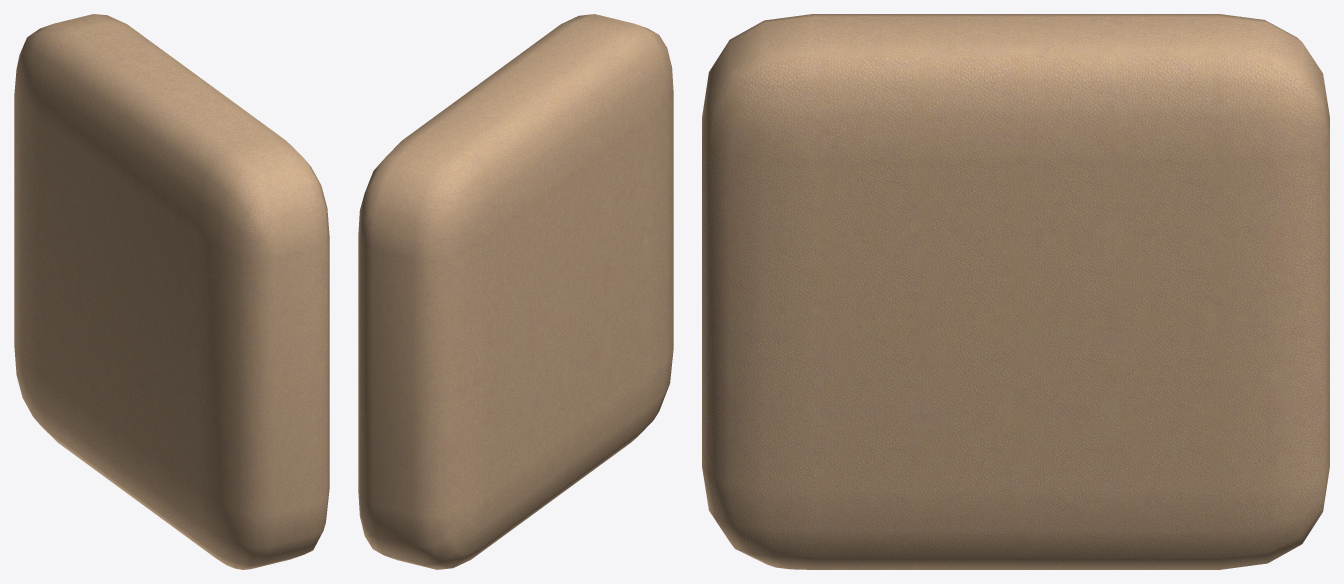
File: SM_咨询室_沙发组件_005.fbx
The picture shows the model from 3 angles, left to right: view 1: azimuth 30°, elevation 25°; view 2: azimuth 150°, elevation 25°; view 3: azimuth 270°, elevation 25°; orthographic projection. The views are drawn at different scales.
Parts seen in each view (by area): view 1: SM_咨询室_沙发组件_005; view 2: SM_咨询室_沙发组件_005; view 3: SM_咨询室_沙发组件_005.
Boxes of the visible parts, x1,y1,x2,y2 form: SM_咨询室_沙发组件_005: [14, 14, 329, 569]; SM_咨询室_沙发组件_005: [358, 14, 673, 569]; SM_咨询室_沙发组件_005: [702, 14, 1329, 569].
Bounding box in the file's own units: 270 × 984 × 1067.
